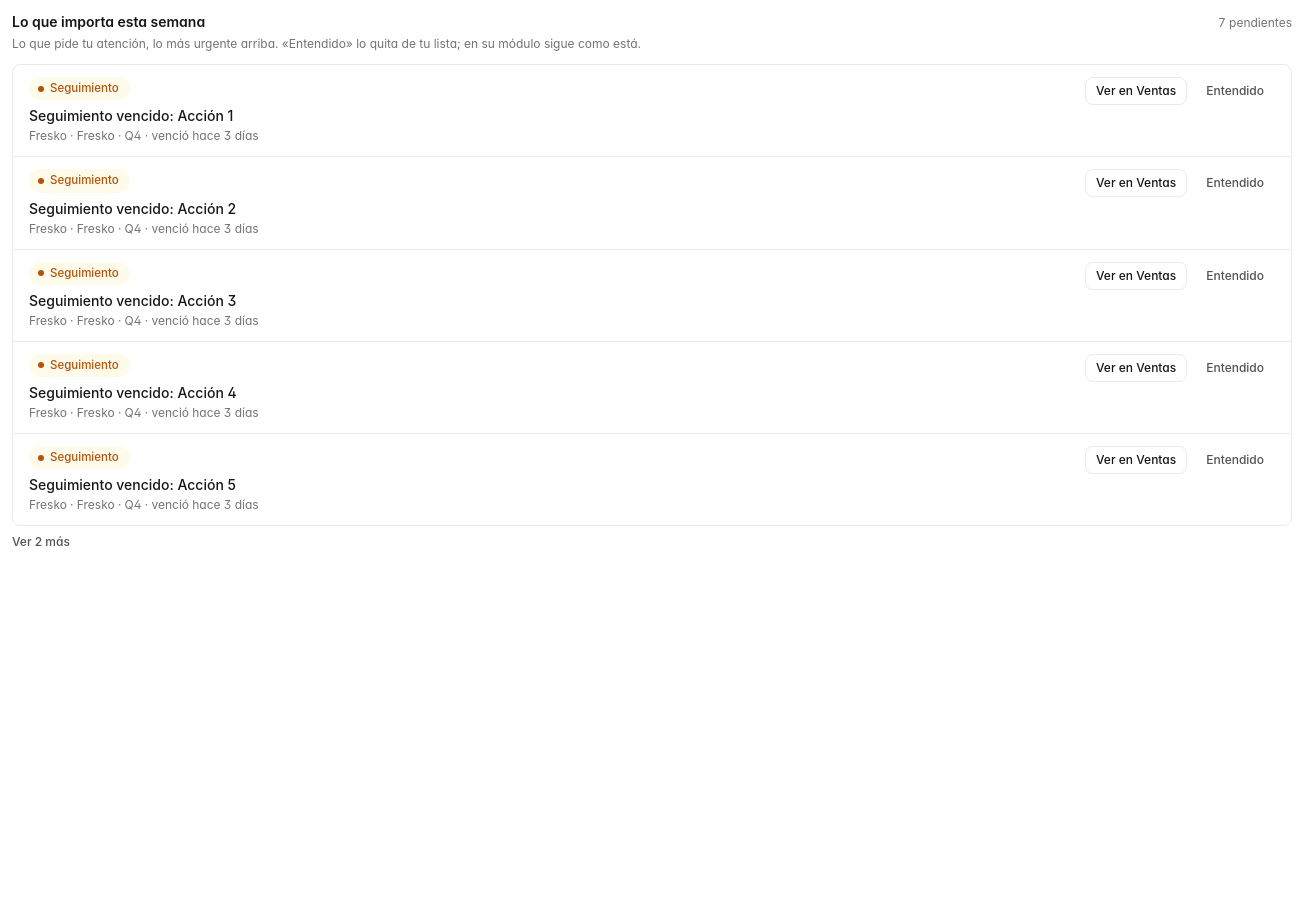
Test: muchas filas › se ven las cinco primeras; «Ver 2 más» despliega el resto y «Ver menos» lo vuelve a plegar
Expected: the number of list items is 5, [13, 65, 1291, 157]; [13, 157, 1291, 250]; [13, 250, 1291, 342]; [13, 342, 1291, 434]; [13, 434, 1291, 525]
Expected: the text "7 pendientes" is shown, [1218, 15, 1292, 31]
Click the button "Ver 2 más" at (41, 542), box [12, 534, 70, 550]
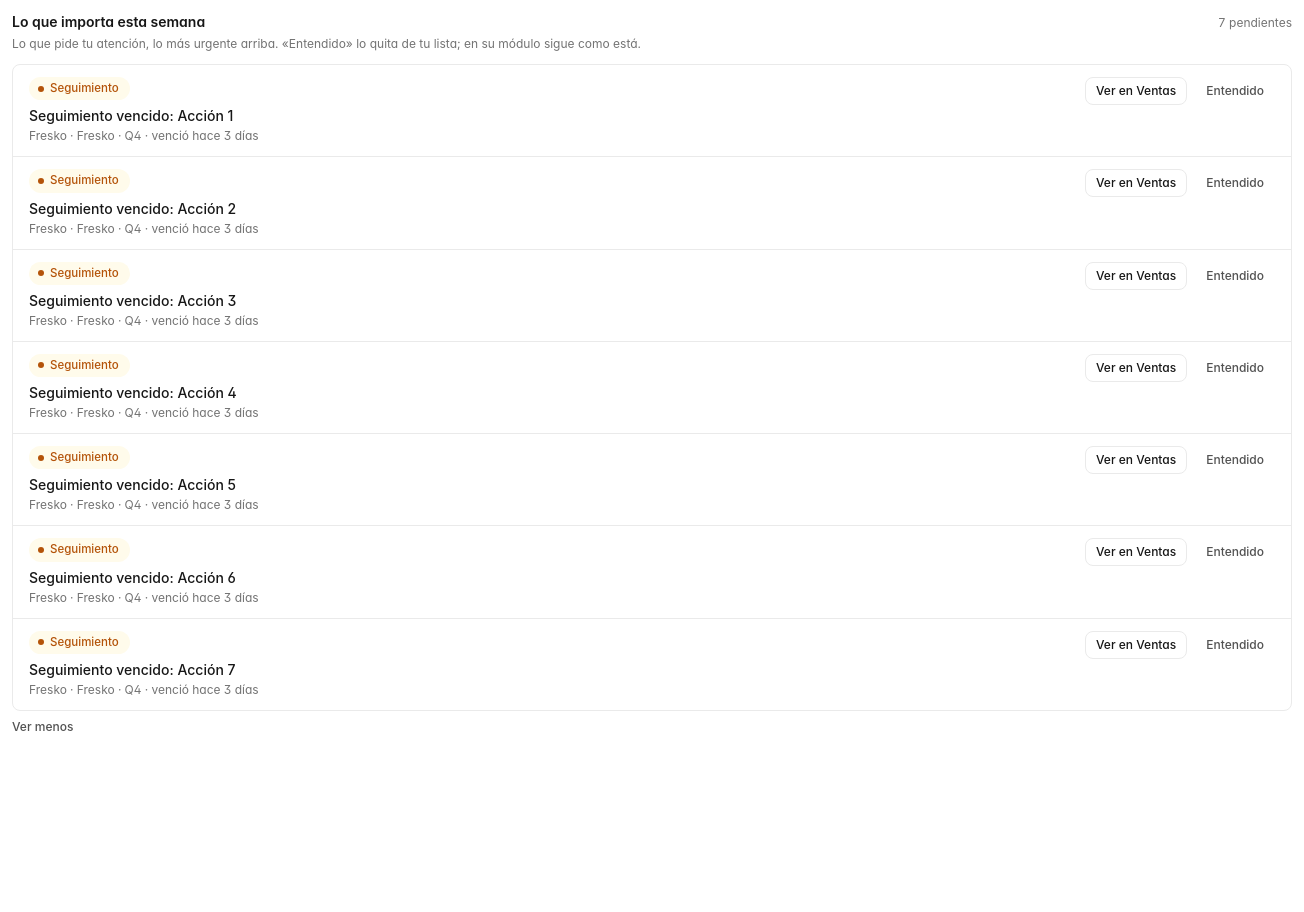
Expected: the number of list items is 7
Click the button "Ver menos" at (43, 727), box [12, 719, 73, 735]
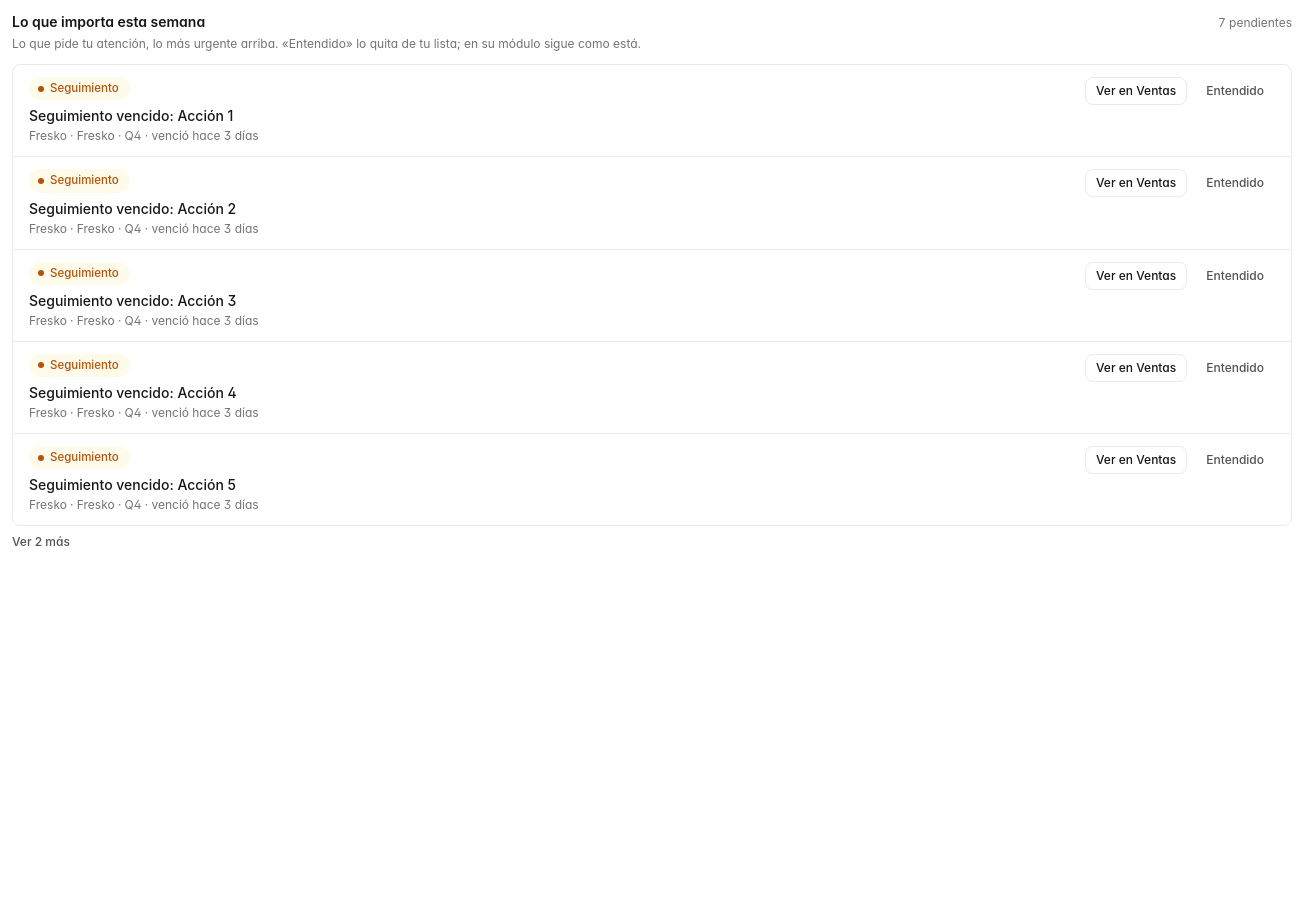
Expected: the number of list items is 5, [13, 65, 1291, 157]; [13, 157, 1291, 250]; [13, 250, 1291, 342]; [13, 342, 1291, 434]; [13, 434, 1291, 525]
